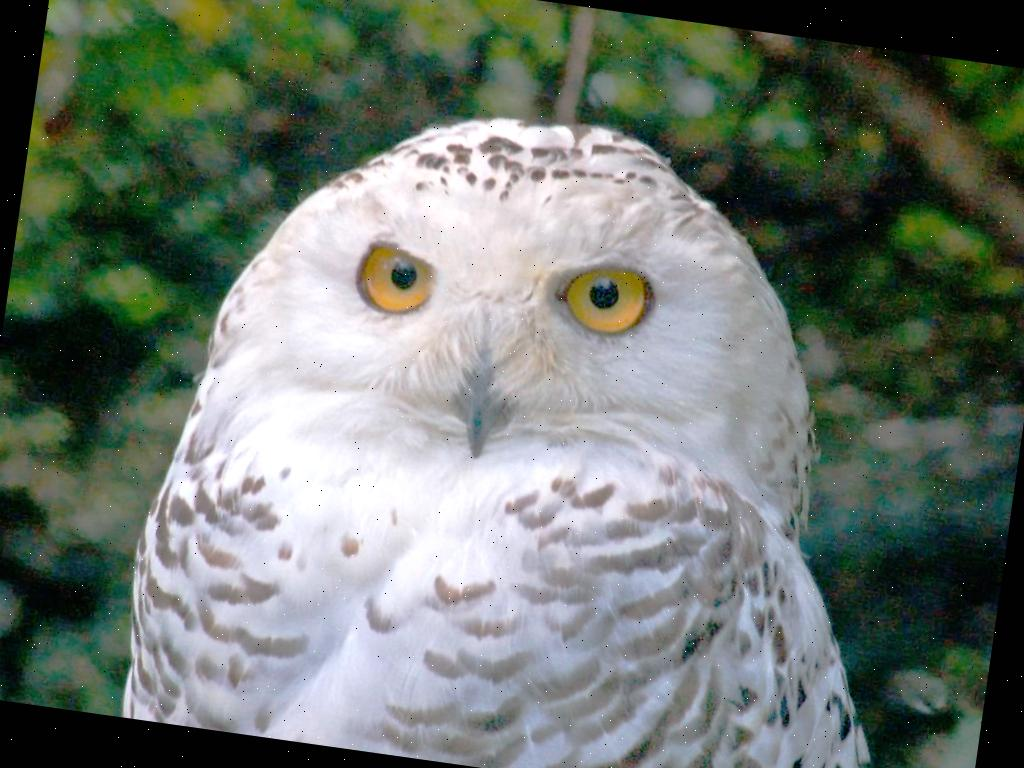Owl: (114, 71, 975, 768)
